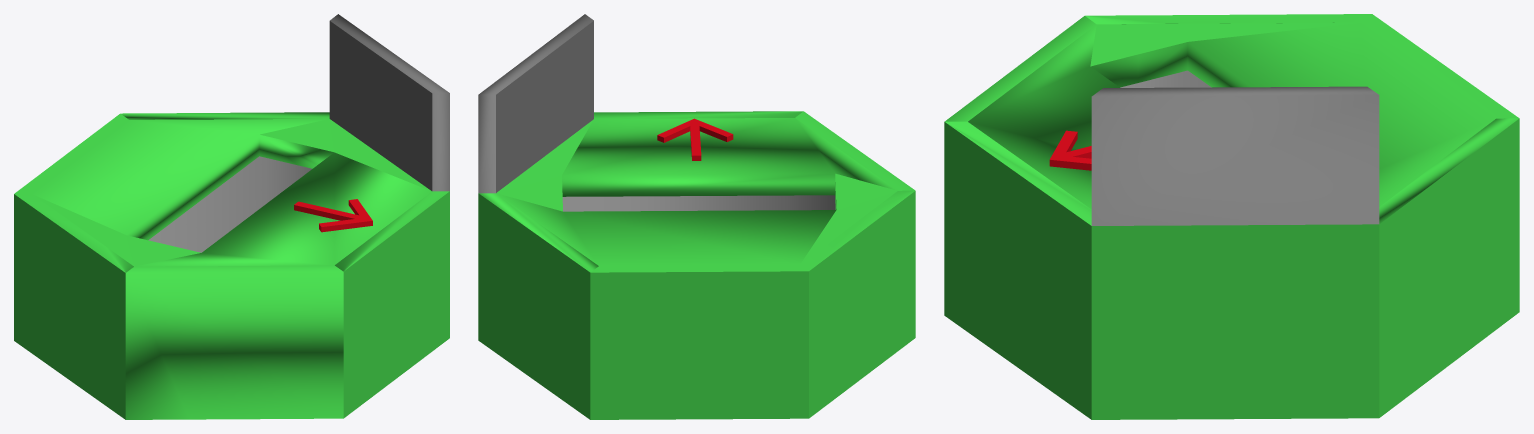
Rendered from ResourceTileStage1_4.fbx.
The picture shows the model from 3 angles, left to right: view 1: azimuth 30°, elevation 25°; view 2: azimuth 150°, elevation 25°; view 3: azimuth 270°, elevation 25°; orthographic projection. The views are drawn at different scales.
Parts seen in each view (by area): view 1: ResourceTileStage1_4; view 2: ResourceTileStage1_4; view 3: ResourceTileStage1_4.
Boxes of the visible parts, box(x1,y1,x2,y2) form: ResourceTileStage1_4: box(14, 14, 449, 419); ResourceTileStage1_4: box(478, 14, 915, 419); ResourceTileStage1_4: box(944, 14, 1519, 419).
Size of the model in its own units: 175 by 124 by 200.
